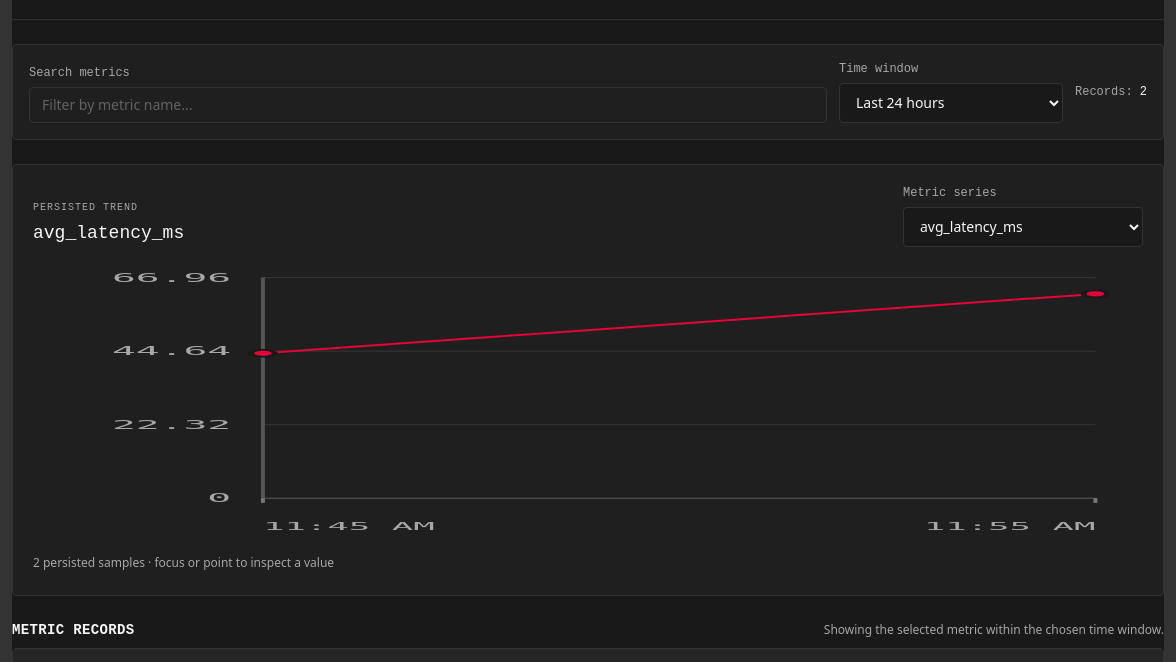
Test: Metrics page › keeps metric selector, chart, record count, and table on the same filtered series
This screenshot has width=1176, height=662.
Expected: the heading "Metric records" is shown, [12,620,134,640]
Step 1. Select "error_rate" in the dropdown named "Select metric" → [1023, 226], box [903,206,1143,246]
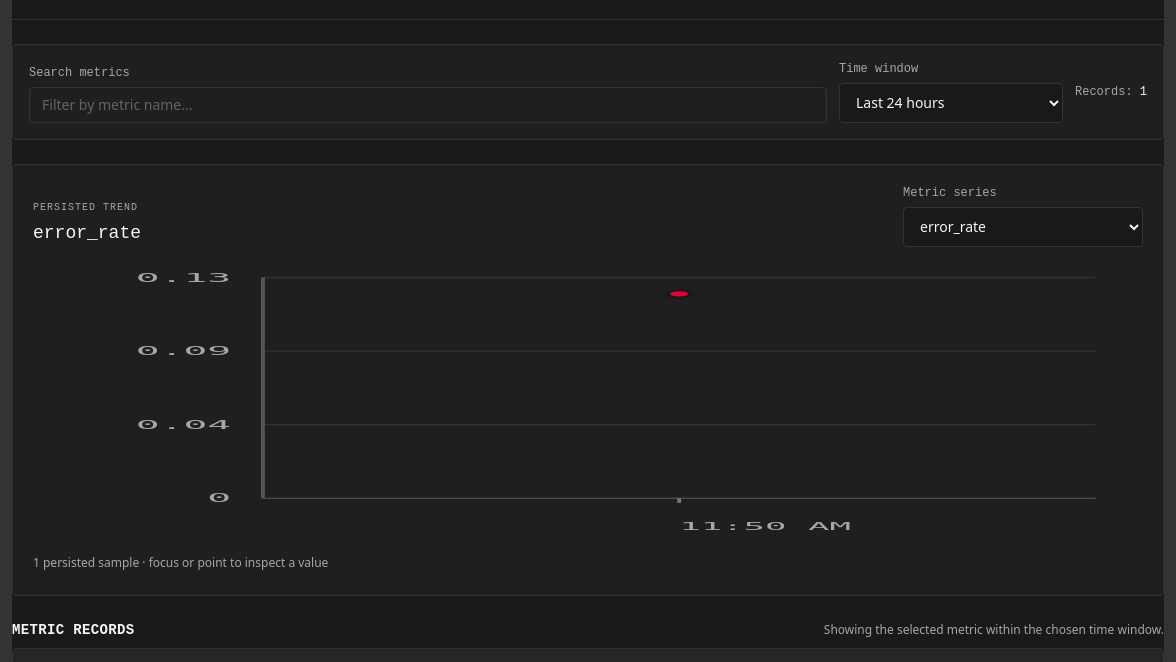
Expected: the text "1" is shown, [1140,84,1147,98]
Result: the picture "44" is gone
Step 2. Type "latency" into the field named "Filter metrics by name" → [428, 104], box [29,86,827,122]
(page scrolled)
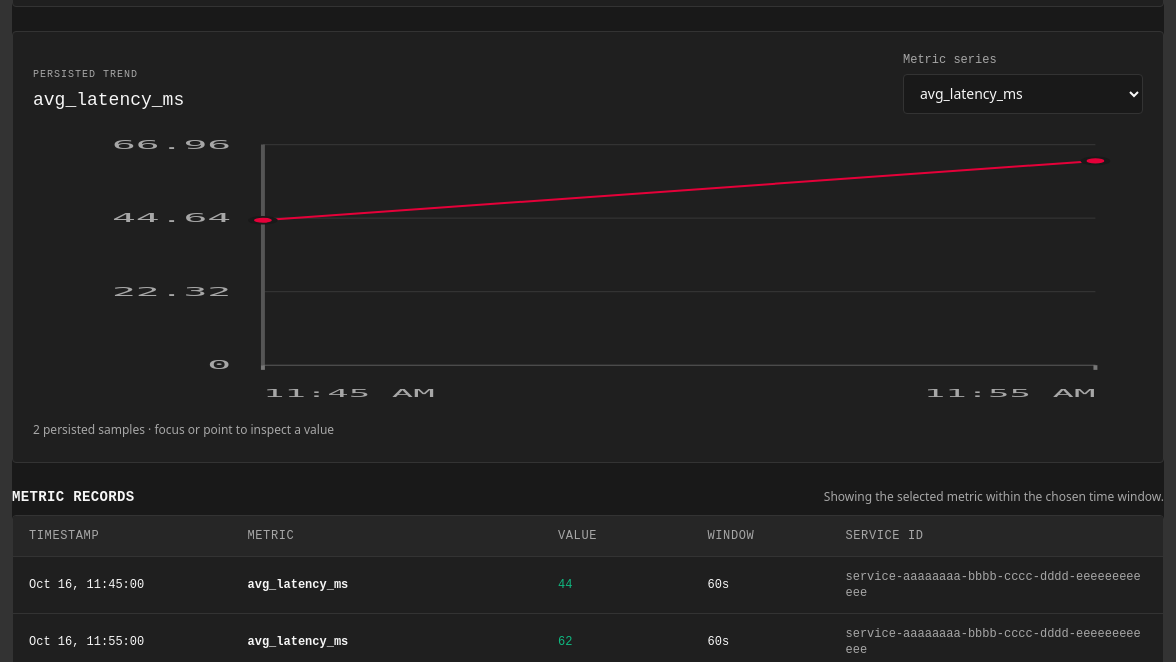
Result: the text "44" is shown at [542,556,692,613]
